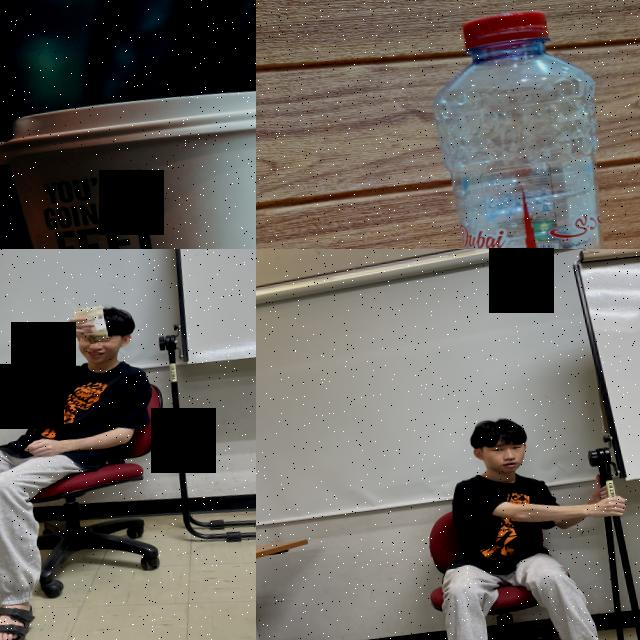bottle: (426, 0, 633, 249)
cup: (0, 75, 256, 249), (70, 300, 110, 346)
